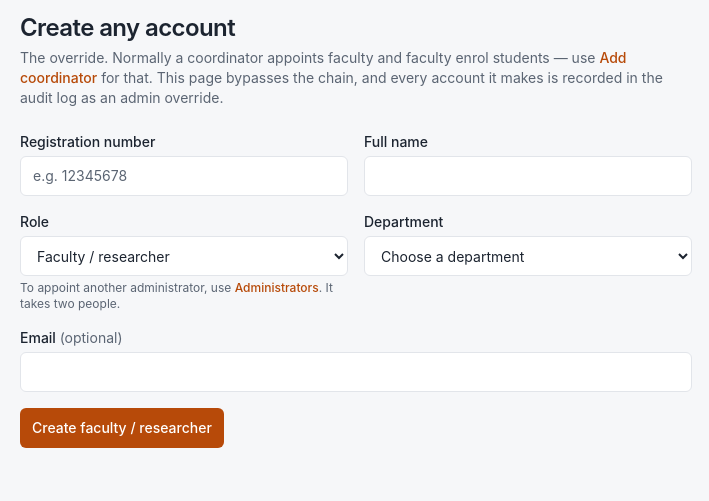
Scenario: AdminCreateAccountPage › still asks for a department for a custodian, who looks after one department's rooms
Select "Facility custodian" in the dropdown labelled "Role": {"x": 184, "y": 256} [20,236,348,276]
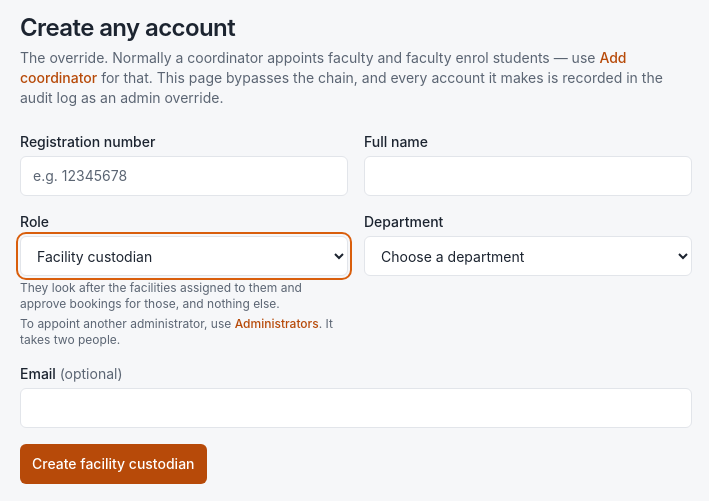
Now the text "approve bookings for those" is shown, box [20,280,302,311]
